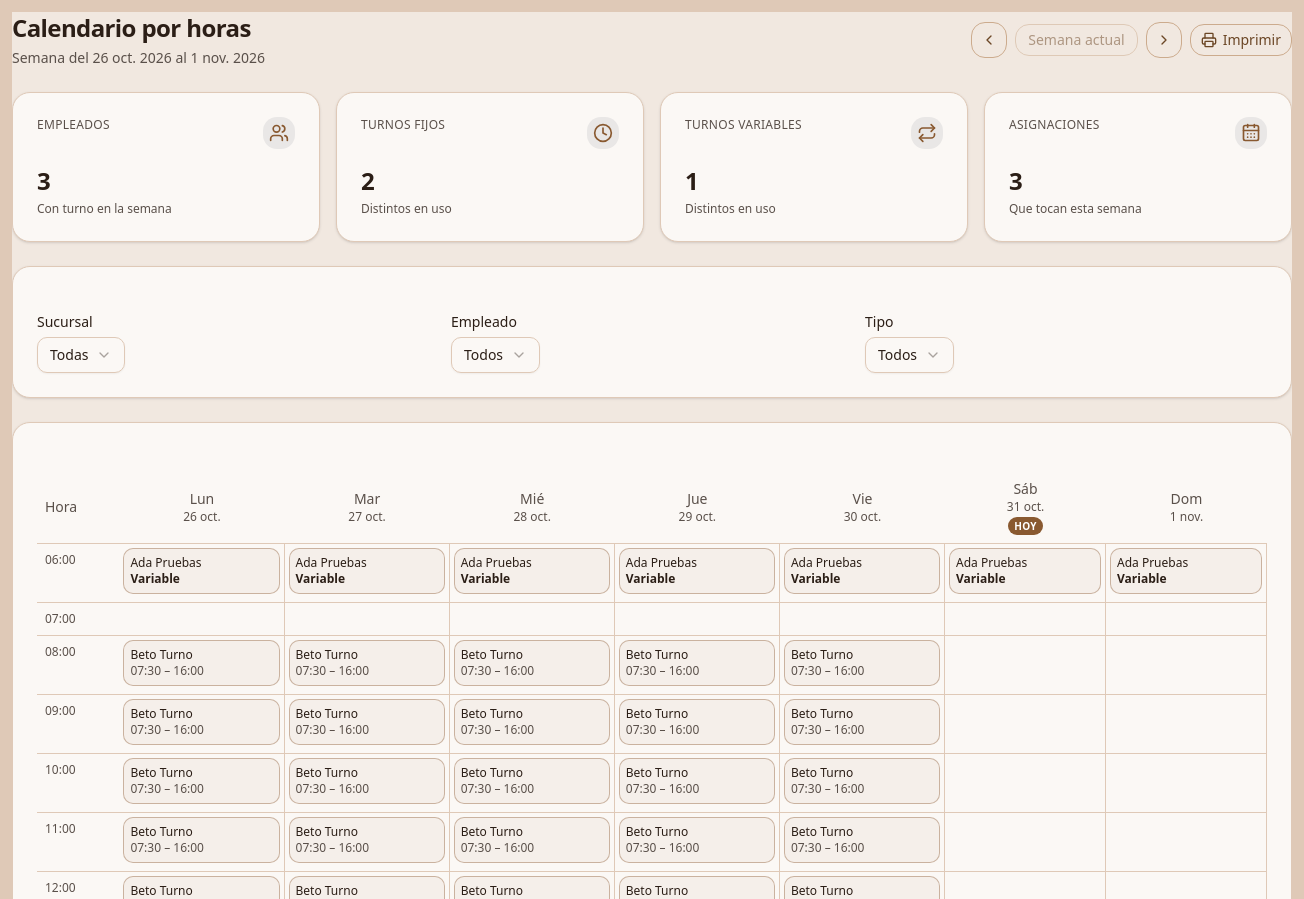
Test: CalendarioHorasPage › filtra por tipo de turno
Expected: the 1st text "Beto Turno" is shown, 130,646 -> 193,663
Click the dropdown named "Tipo": (910, 355) 865,337 -> 954,373
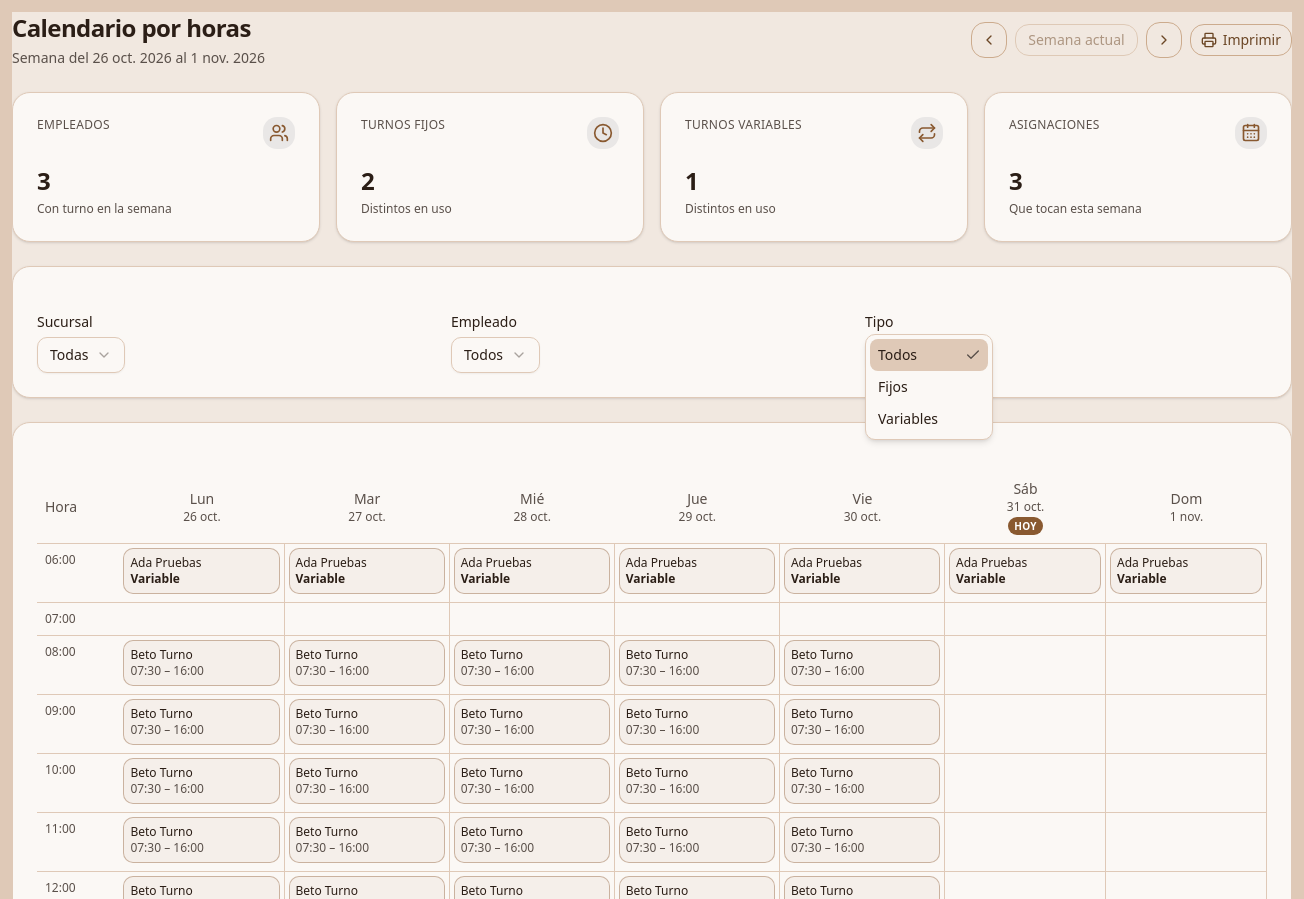
Click the option "Variables": (908, 418) 878,409 -> 938,428
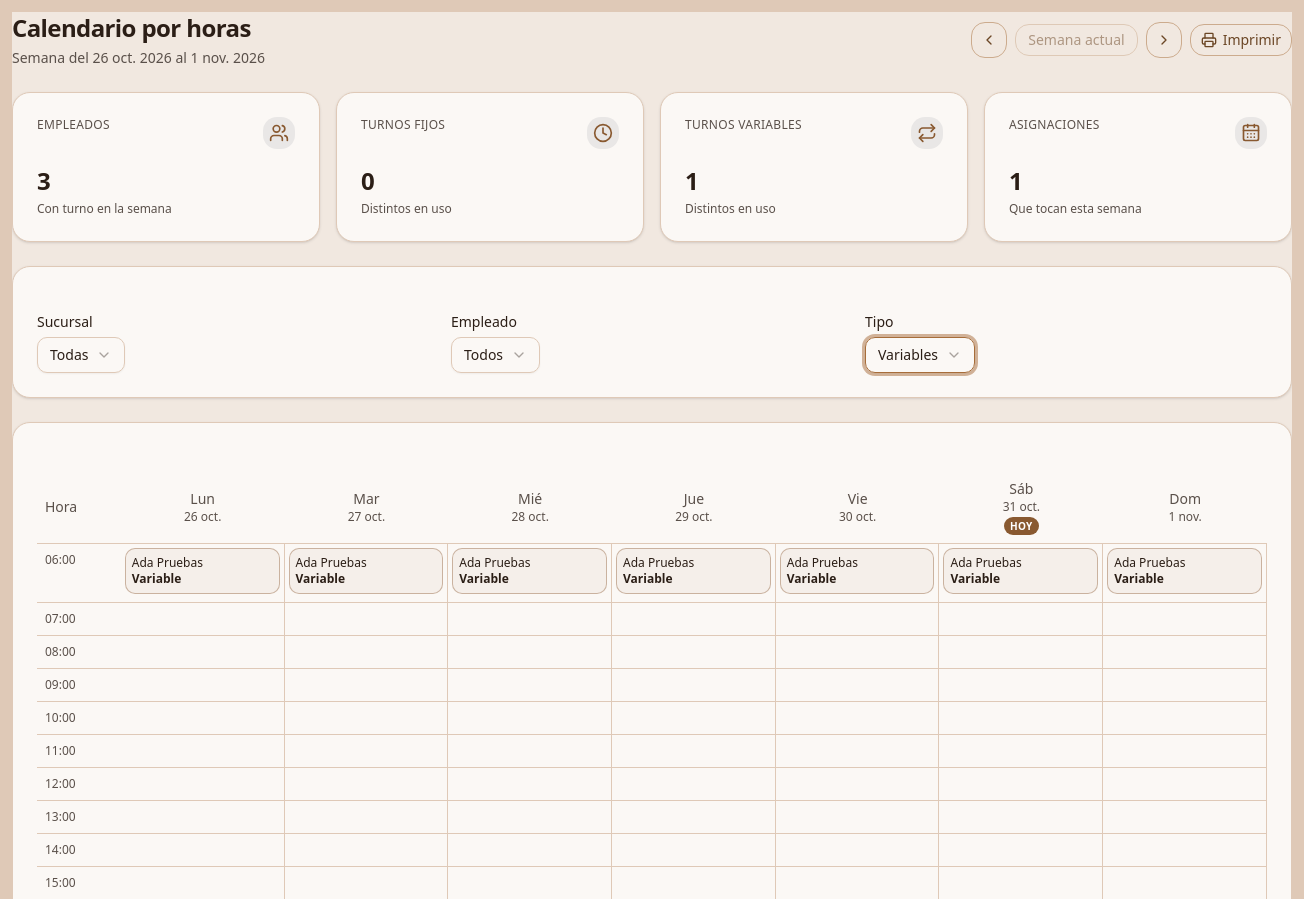
Now the text "07:30 – 16:00" is gone
